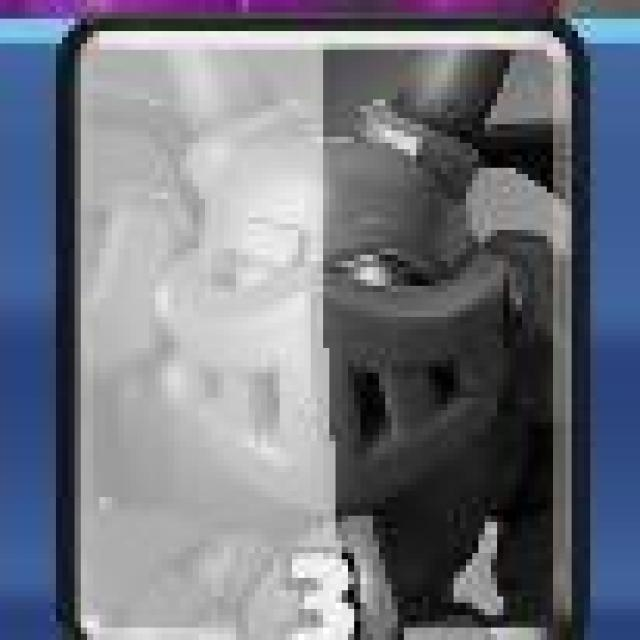Mega_Minion: (64, 13, 583, 640)
